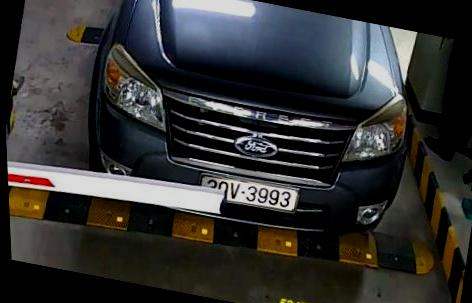License_Plate: (196, 157, 304, 216)
